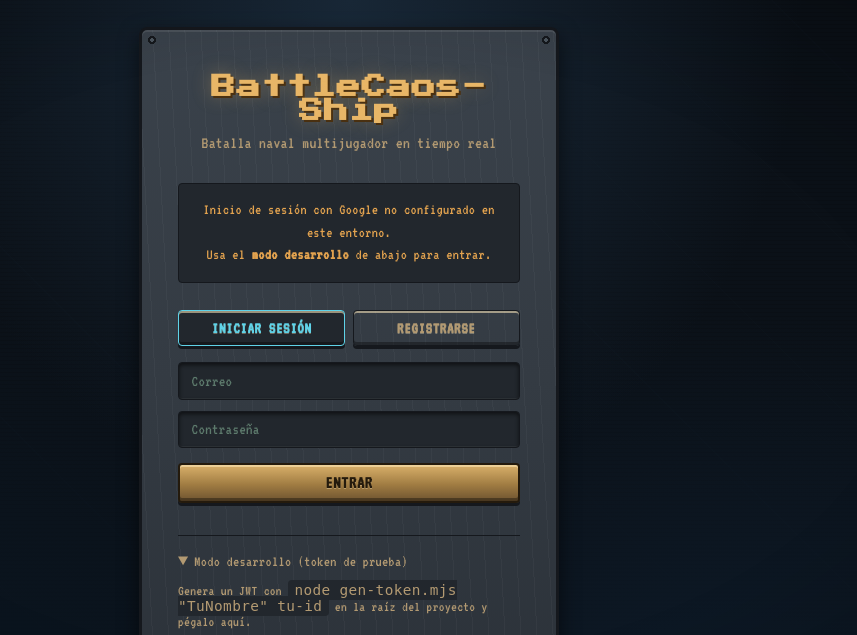
Scenario: LoginPage › un código de error desconocido del backend cae en error_desconocido
The width and height of the screenshot is (857, 635).
Step 1. Type "ana@test.com" into the field with placeholder "Correo" → (349, 381), box [178,362,520,400]
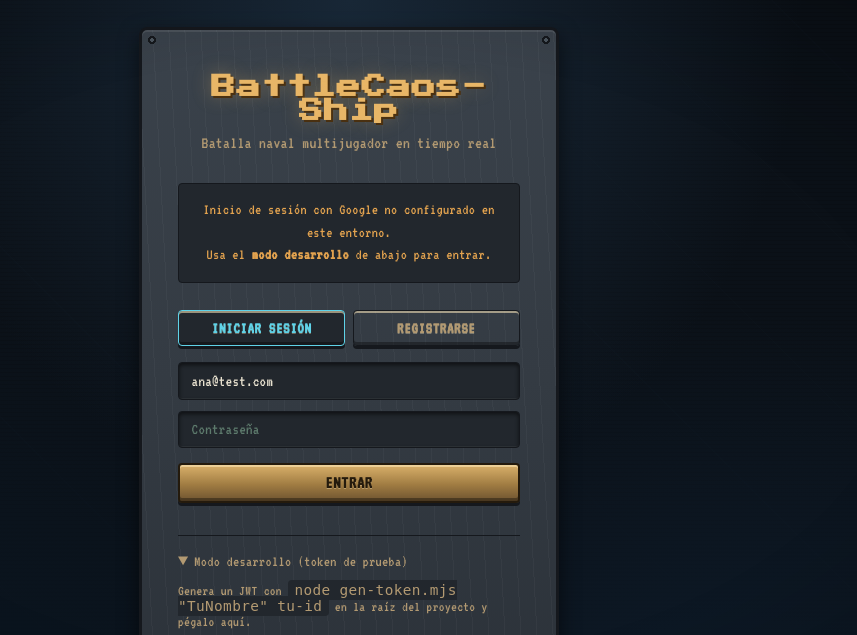
Step 2. Type "x" into the password field with placeholder "Contraseña" → (349, 429), box [178,410,520,448]
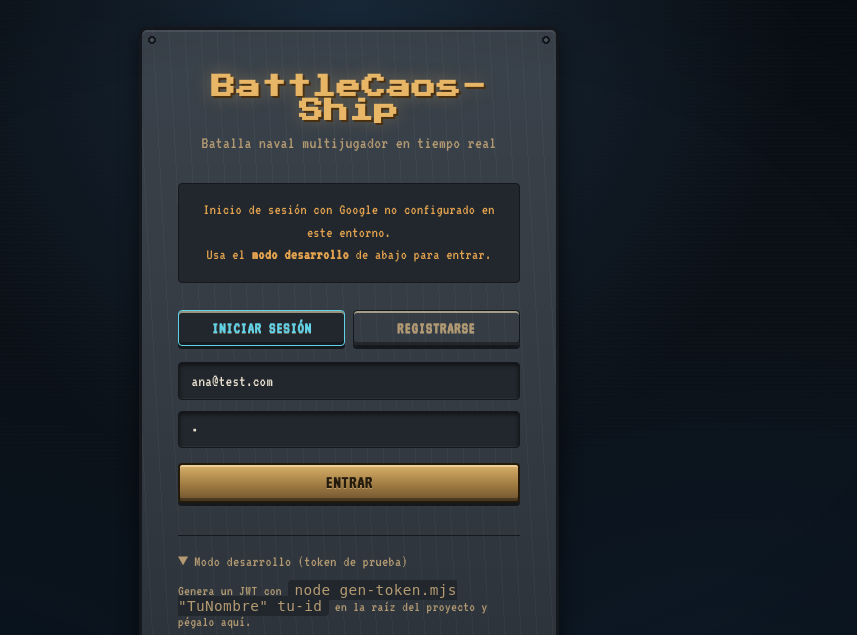
Step 3. Click the button "Entrar" → (349, 483), box [178,463,520,503]
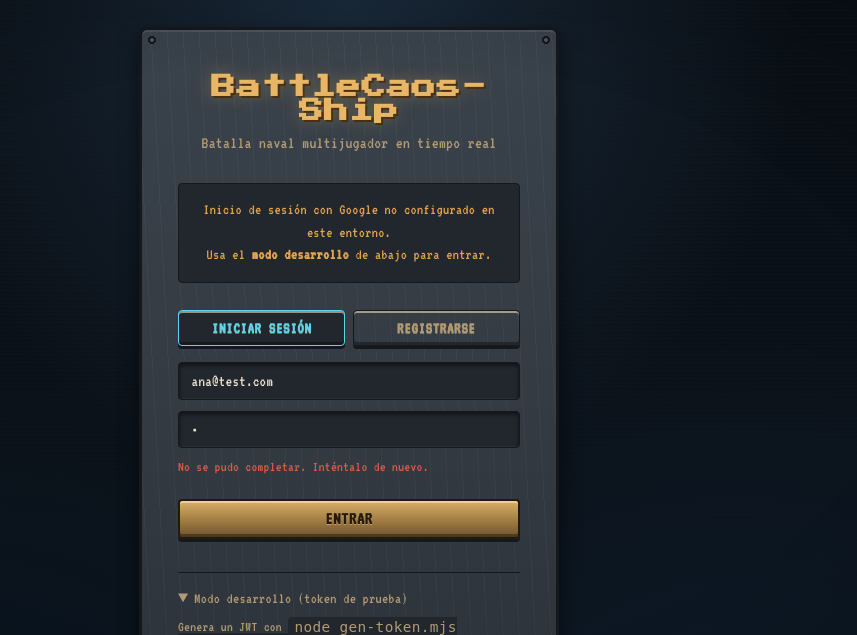
Check: the message reads "No se pudo completar. Inténtalo de nuevo.", box [178,459,429,474]
